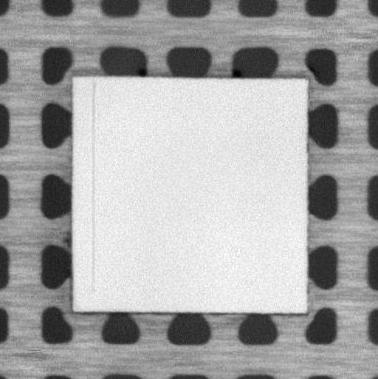DIE_CRACK: (86, 78, 97, 295)
